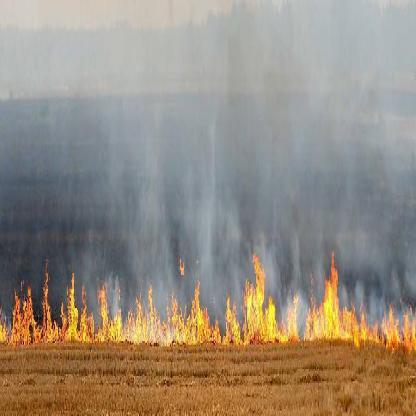fire: (3, 264, 412, 346)
